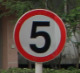speed_limit_5: (13, 9, 66, 63)
